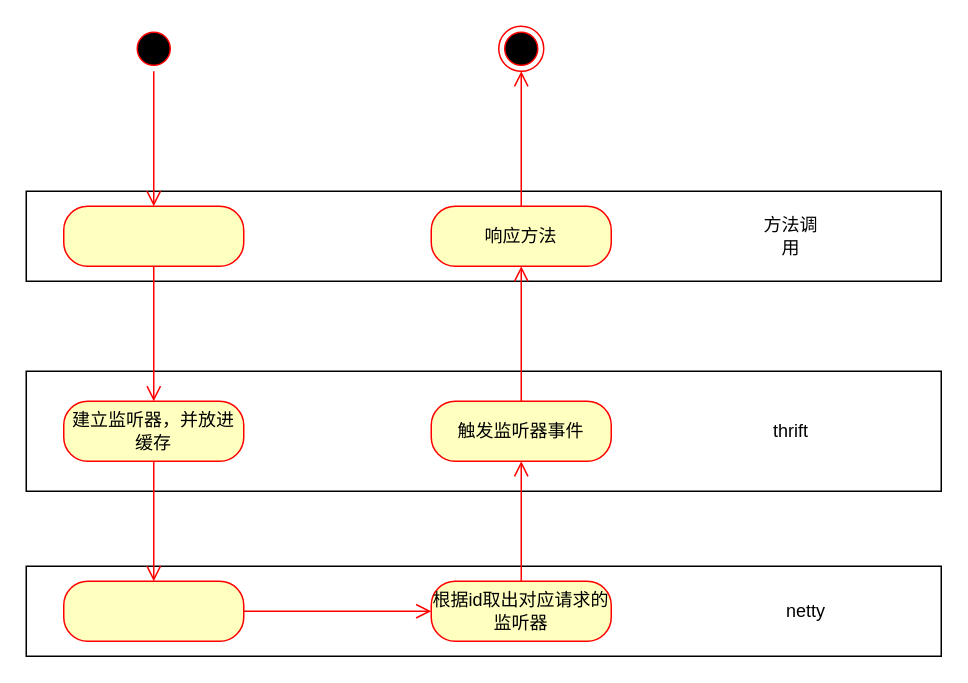
Image size: 968x683. Some labels were removed from this diagram. Each missing label, with the centre of its shape:
"发送消息" belongs at point 153,235.
"接收到消息响应" belongs at point 153,610.
